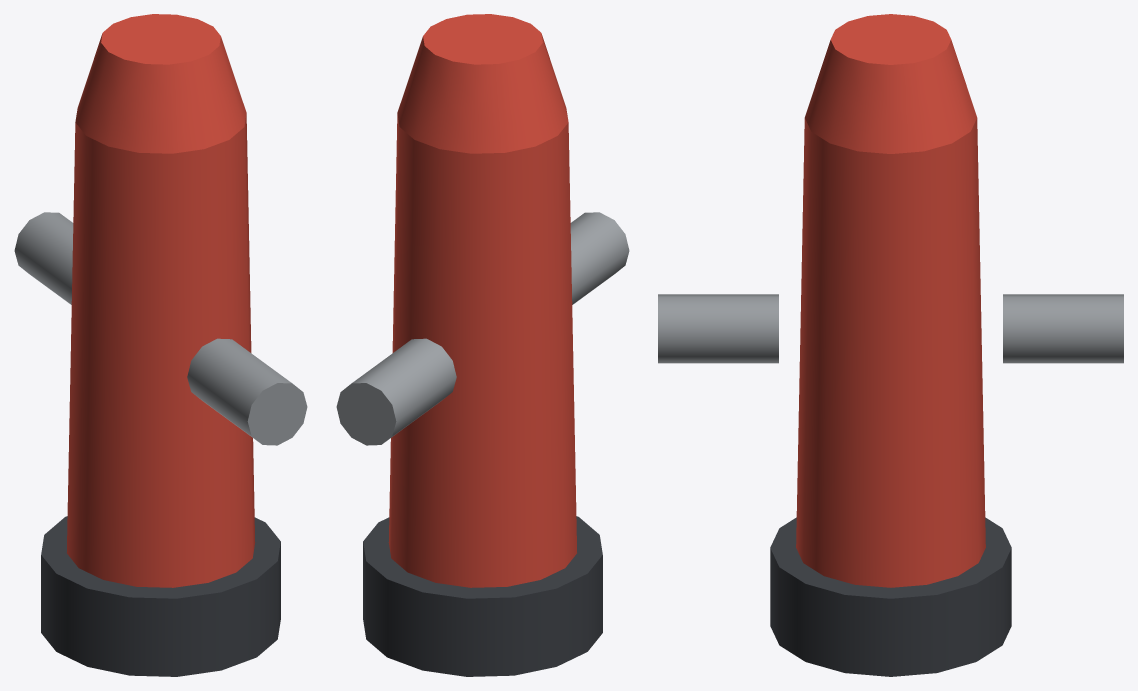
The model's file is prop_fire_hydrant.glb.
3 views of the same model, side by side, from view 1: azimuth 30°, elevation 25°; view 2: azimuth 150°, elevation 25°; view 3: azimuth 270°, elevation 25° (orthographic).
Parts seen in each view (by area): view 1: fire_hydrant.001; view 2: fire_hydrant.001; view 3: fire_hydrant.001.
Boxes of the visible parts, x1=… form: fire_hydrant.001: x1=14, y1=14, x2=307, y2=676; fire_hydrant.001: x1=336, y1=14, x2=629, y2=676; fire_hydrant.001: x1=658, y1=14, x2=1123, y2=676.
Bounding box in the file's own units: 0.28 × 0.75 × 0.54.
